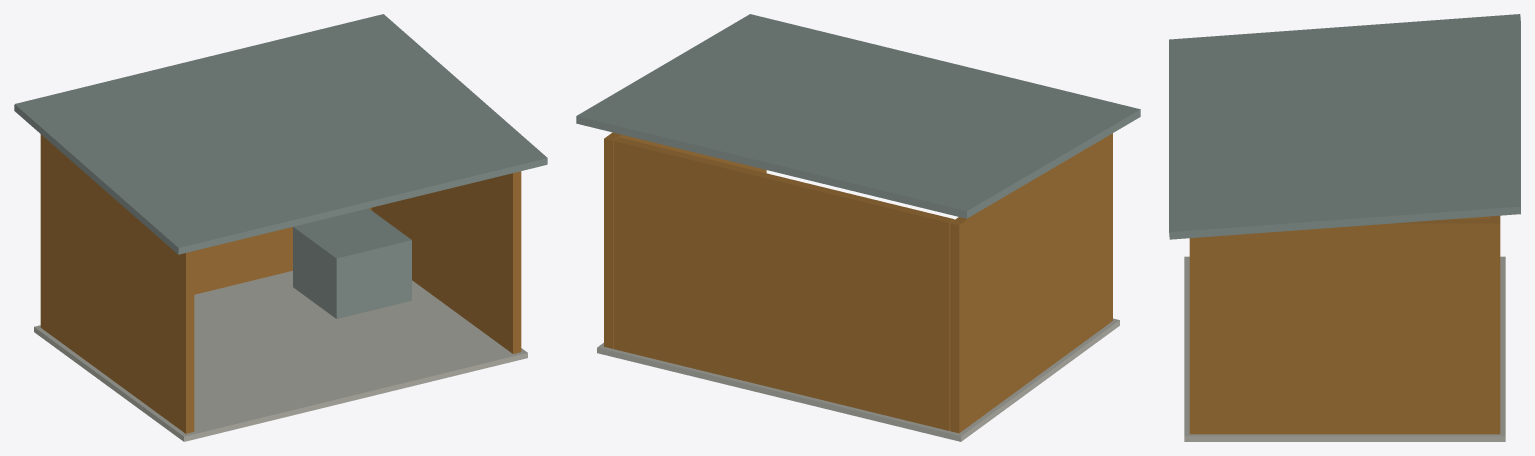
The model's file is SM_CasetaAperos_v1_Madera_LOD1.fbx.
The picture shows the model from 3 angles, left to right: view 1: azimuth 30°, elevation 25°; view 2: azimuth 150°, elevation 25°; view 3: azimuth 270°, elevation 25°; orthographic projection. The views are drawn at different scales.
Visible parts, largest first — view 1: SM_huerta_nules_v21_LOD1; view 2: SM_huerta_nules_v21_LOD1; view 3: SM_huerta_nules_v21_LOD1.
Boxes of the visible parts, x1,y1,x2,y2 form: SM_huerta_nules_v21_LOD1: (14,14,547,441); SM_huerta_nules_v21_LOD1: (576,14,1140,441); SM_huerta_nules_v21_LOD1: (1169,14,1520,441).
Bounding box in the file's own units: 4.4 × 2.58 × 3.4.
